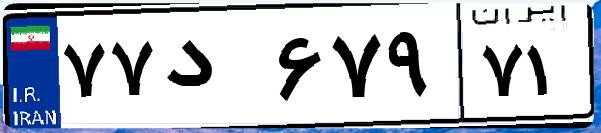1: (525, 38, 570, 115)
6: (270, 28, 330, 110)
7: (330, 28, 385, 110), (57, 26, 110, 100), (475, 38, 525, 113), (110, 28, 158, 98)
9: (385, 28, 445, 110)
د: (158, 20, 270, 120)
